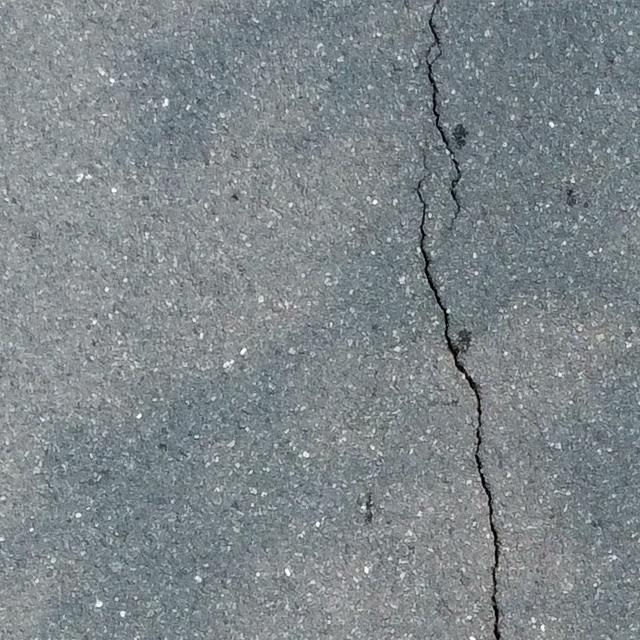LongitudinalCrack: (414, 178, 500, 640), (424, 1, 470, 226)
